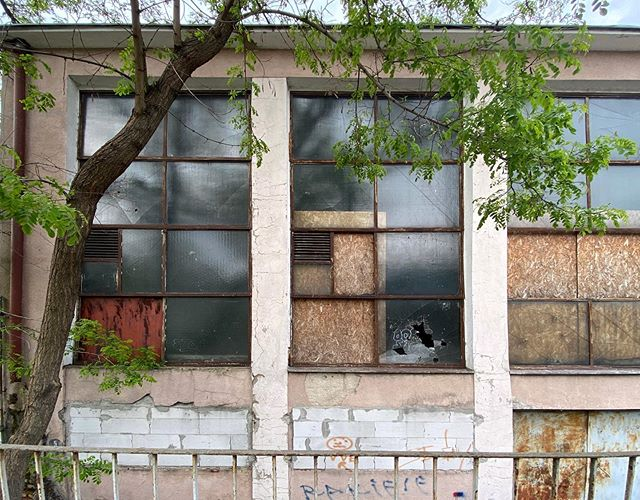tree: (1, 1, 595, 493)
window: (74, 86, 253, 364), (287, 89, 466, 367), (512, 90, 640, 369)
